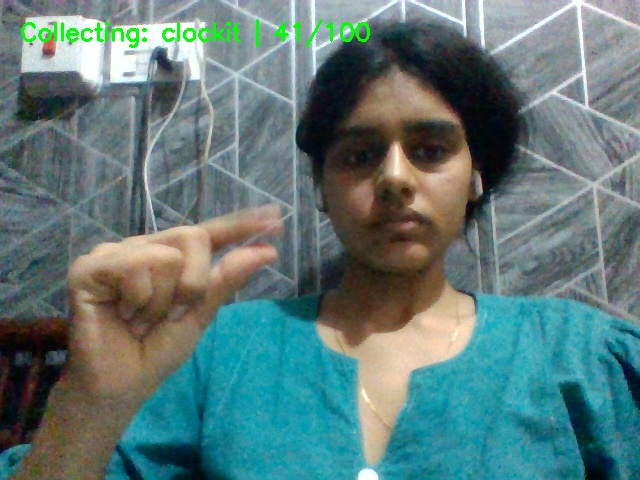clockit: (34, 193, 287, 379)
